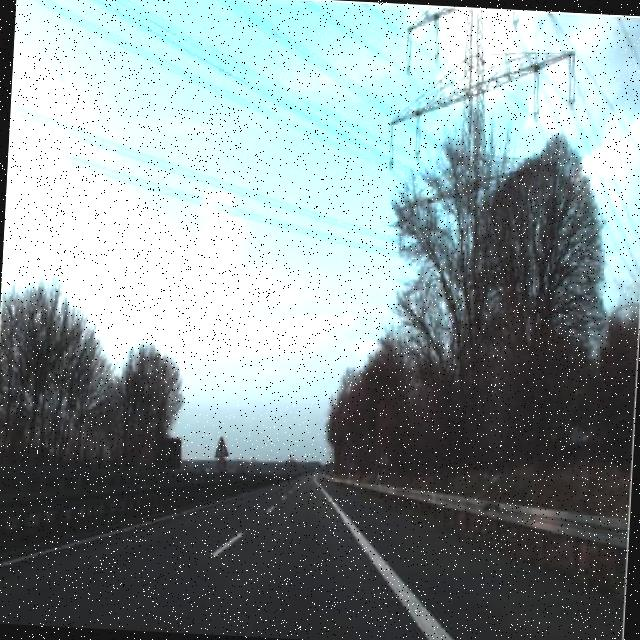Ograniczenie predkosci do 120: (216, 456, 229, 474), (378, 466, 391, 484)
